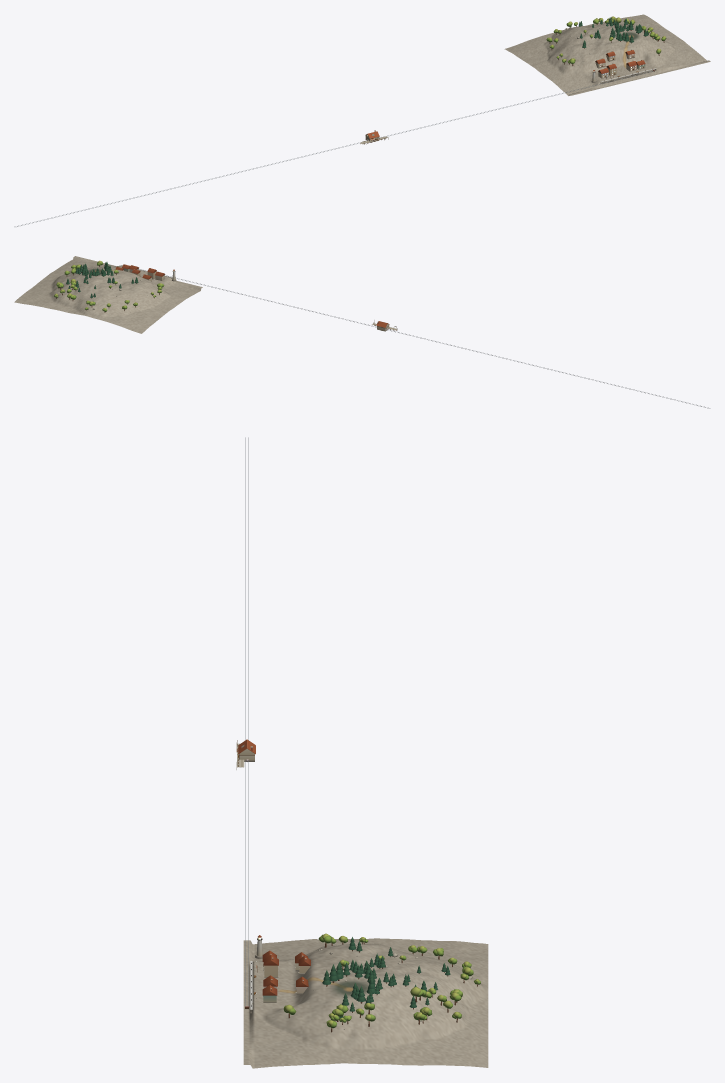
The model's file is world.glb.
3 renders of one model, top to bottom at view 1: azimuth 30°, elevation 25°; view 2: azimuth 150°, elevation 25°; view 3: azimuth 270°, elevation 25°, orthographic. The views are drawn at different scales.
Parts seen in each view (by area): view 1: Land, Town_Trees, Town_Houses, Line_Rails; view 2: Land, Town_Trees, Line_Rails, Town_Houses; view 3: Land, Town_Trees, Town_Houses, Line_Rails.
Boxes of the visible parts, x1,y1,x2,y2 form: Land: (504, 14, 710, 95); Town_Trees: (546, 16, 666, 65); Town_Houses: (595, 49, 645, 78); Line_Rails: (14, 70, 654, 226); Land: (14, 256, 202, 333); Town_Trees: (54, 260, 164, 312); Line_Rails: (140, 269, 710, 408); Town_Houses: (115, 264, 165, 281); Land: (243, 938, 488, 1068); Town_Trees: (283, 933, 480, 1032); Town_Houses: (262, 950, 310, 1002); Line_Rails: (245, 437, 248, 1008).
Bounding box in the file's own units: 816 × 32.46 × 140.
